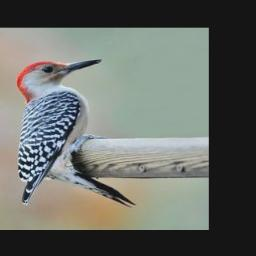Woodpecker: (4, 52, 145, 218)
